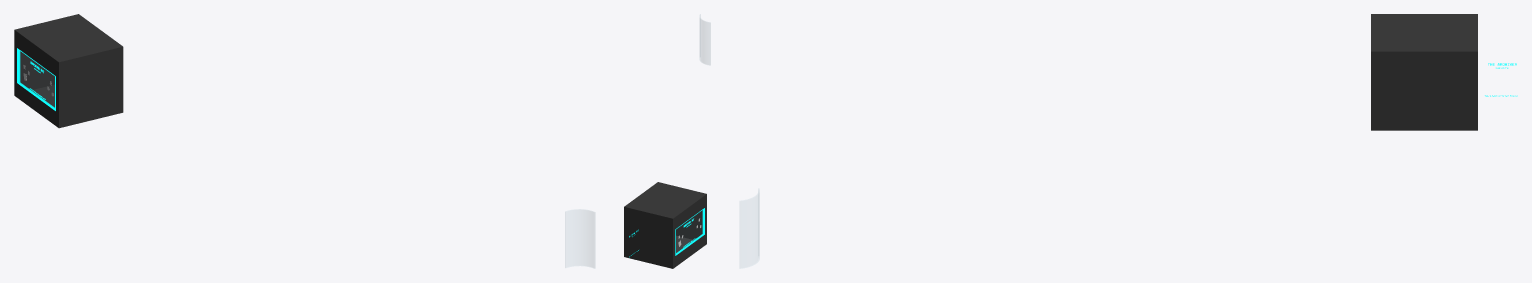
Rendered from Title Screen1.fbx.
3 renders of one model, left to right at view 1: azimuth 30°, elevation 25°; view 2: azimuth 150°, elevation 25°; view 3: azimuth 270°, elevation 25°, orthographic. The views are drawn at different scales.
Parts seen in each view (by area): view 1: Cube.002, Cube.004, Cube, Cylinder.017, Cube.001; view 2: Cube.001, Cube.004, Cube, Cube.002, Cylinder.017, Cube.003; view 3: Cube.005, Cube.004, Cylinder.017, Cube.001, Cube.002.
Boxes of the visible parts, x1,y1,x2,y2 form: Cube.002: [59, 45, 123, 127]; Cube.004: [18, 15, 121, 60]; Cube: [14, 29, 60, 128]; Cylinder.017: [565, 209, 594, 268]; Cube.001: [16, 14, 79, 89]; Cube.001: [624, 206, 672, 268]; Cube.004: [625, 183, 703, 217]; Cube: [671, 193, 706, 268]; Cube.002: [657, 182, 705, 239]; Cylinder.017: [700, 14, 710, 64]; Cube.003: [676, 235, 693, 252]; Cube.005: [1374, 55, 1474, 127]; Cube.004: [1374, 15, 1474, 54]; Cylinder.017: [740, 189, 759, 268]; Cube.001: [1474, 15, 1477, 130]; Cube.002: [1371, 15, 1374, 130].
Size of the model in its own units: 1263 by 352 by 2603.
